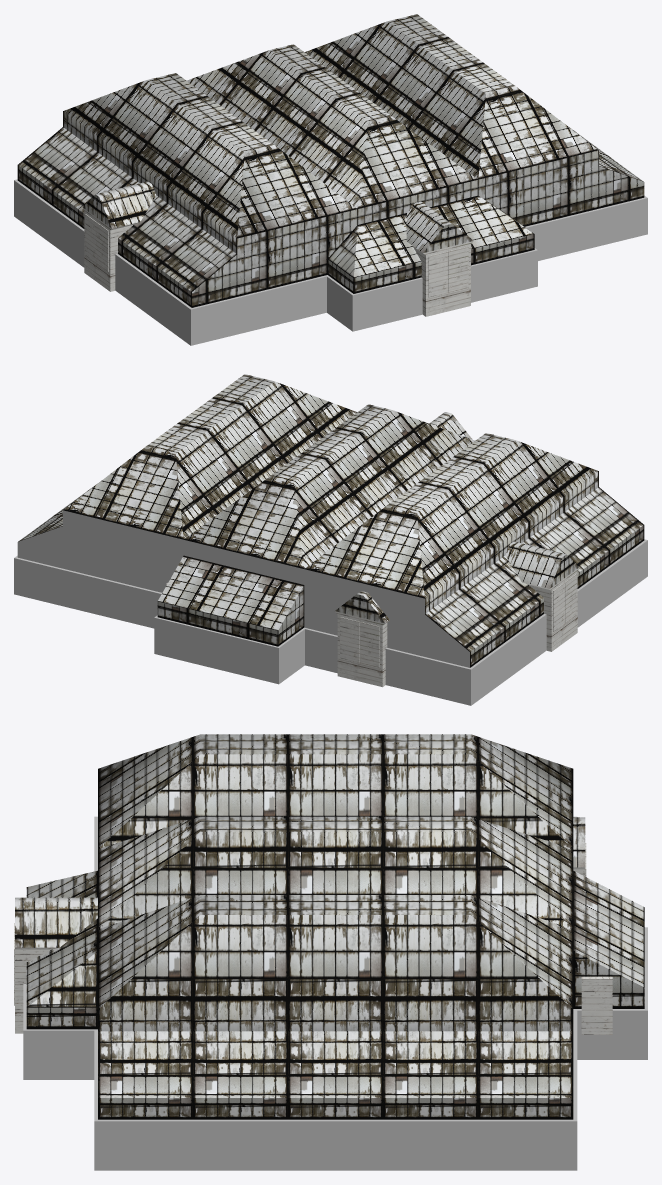
Rendered from PH_GreenHouse-30x26x1F-A.FBX.
3 renders of one model, top to bottom at view 1: azimuth 30°, elevation 25°; view 2: azimuth 150°, elevation 25°; view 3: azimuth 270°, elevation 25°, orthographic. The views are drawn at different scales.
Visible parts, largest first — view 1: PH_MOD-GreenHouse-30x26-A; view 2: PH_MOD-GreenHouse-30x26-A; view 3: PH_MOD-GreenHouse-30x26-A.
Part boxes in pixels (left/top/right/bottom): PH_MOD-GreenHouse-30x26-A: left=14, top=14, right=647, bottom=345; PH_MOD-GreenHouse-30x26-A: left=14, top=374, right=647, bottom=705; PH_MOD-GreenHouse-30x26-A: left=14, top=734, right=647, bottom=1170.
Size of what is drawn, in the model's own units: 3070 by 900 by 2668.
